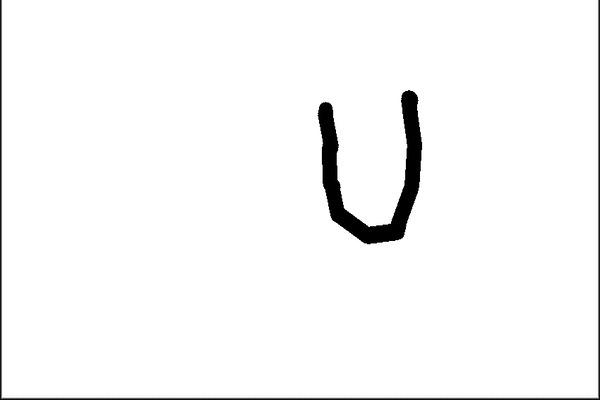U: (311, 76, 434, 255)
